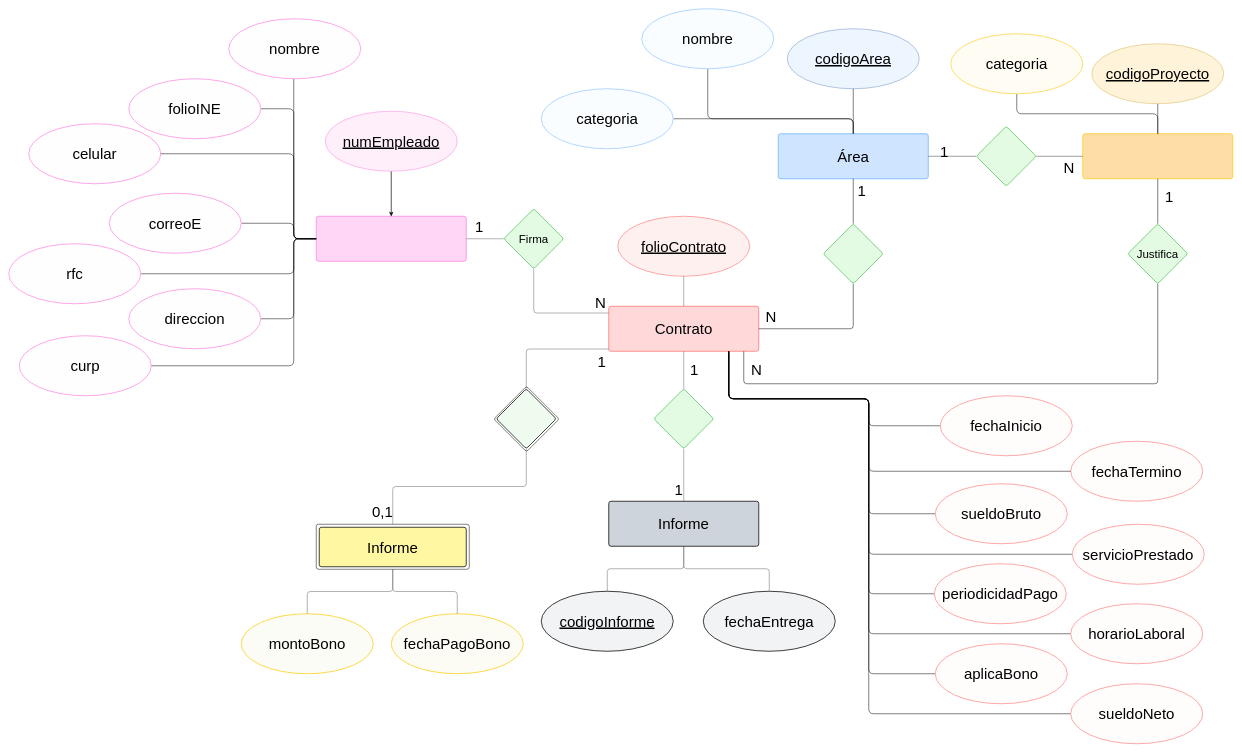
Image size: 1242x753. Some labels were removed from this diagram. Each missing label, with the centre of its shape:
"comprueba" belongs at point (683, 418).
"Gestiona" belongs at point (1006, 156).
"Habilita" belongs at point (526, 418).
"Prestador" belongs at point (391, 238).
"Proyecto" belongs at point (1157, 156).
"Solicita" belongs at point (853, 253).
